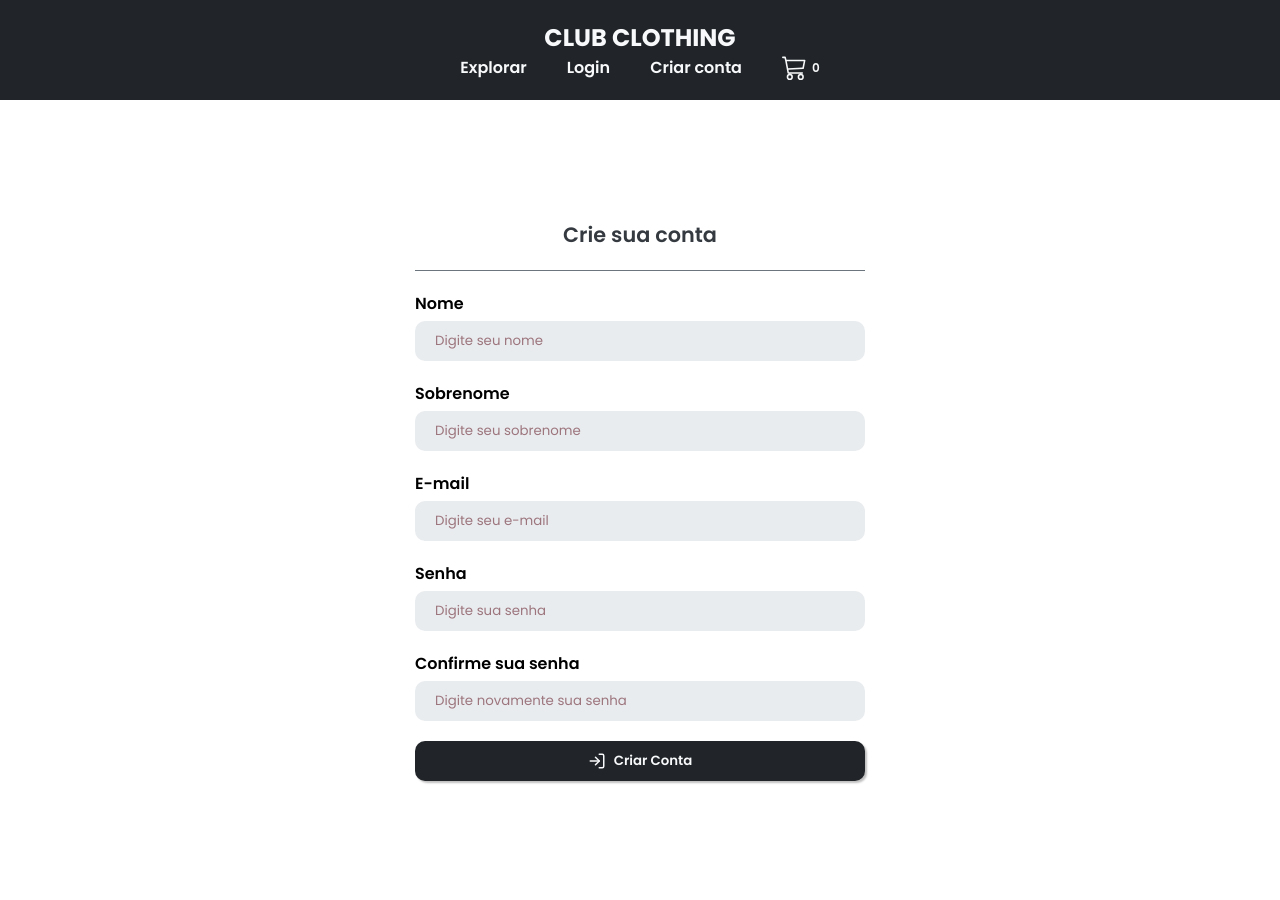
Test: Sign Up › should show error when filling an invalid e-mail
Type "invalid_email" into the field with placeholder "Digite seu e-mail" at (640, 521), box x1=415 y1=501 x2=865 y2=541
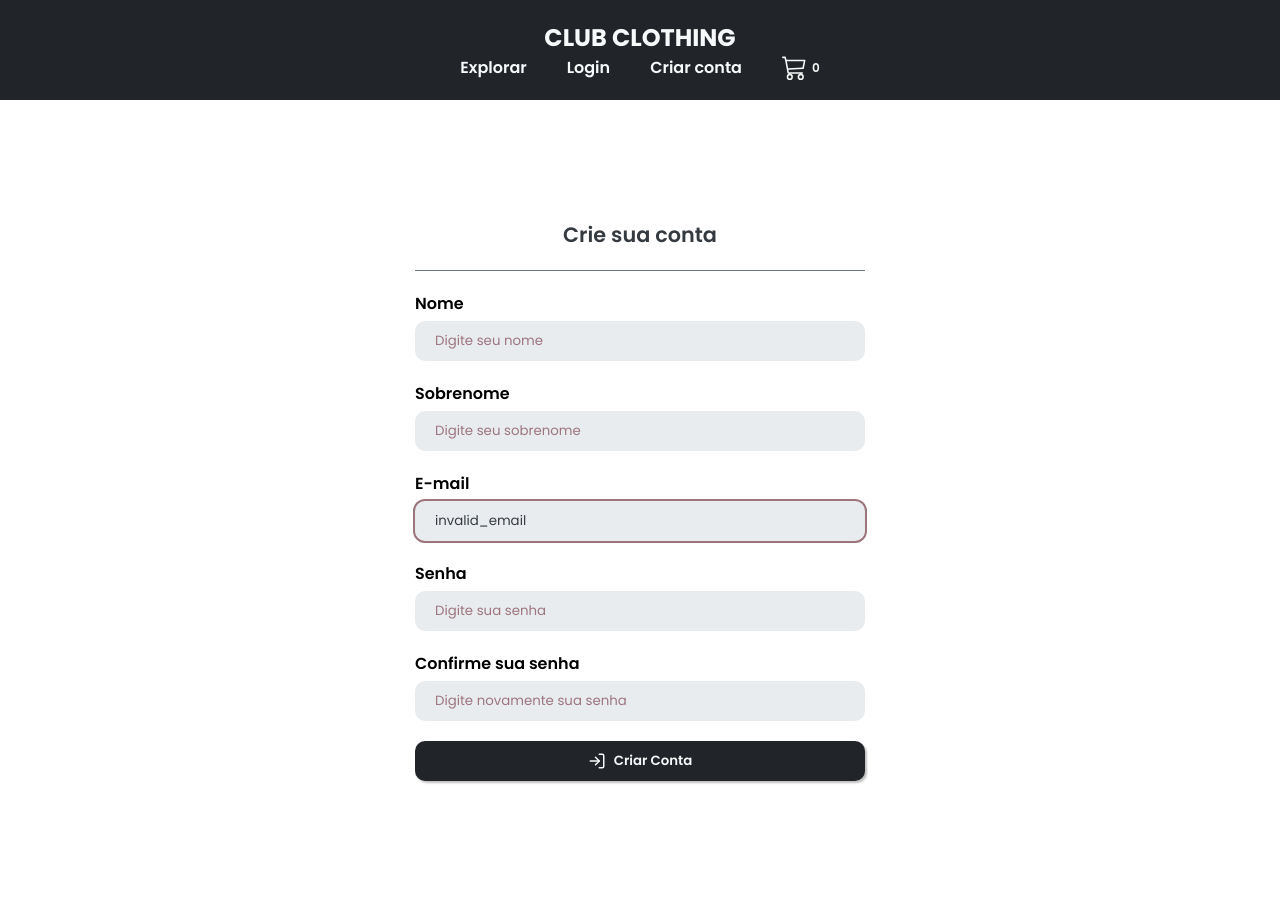
Click the button "Criar Conta" at (640, 761), box x1=415 y1=741 x2=865 y2=781
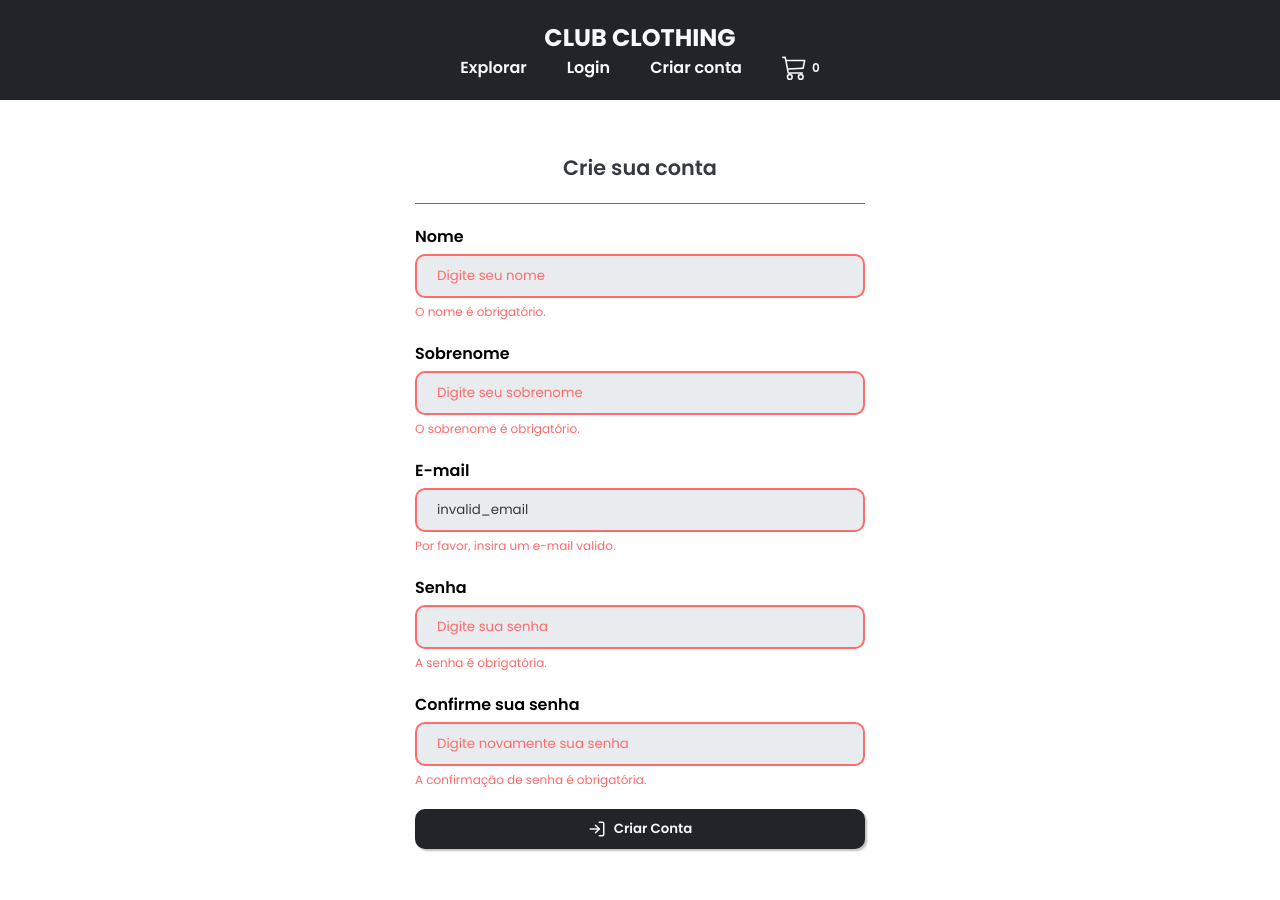
Expected: the text "Por favor, insira um e-mail valido." is shown, x1=415 y1=536 x2=615 y2=554
